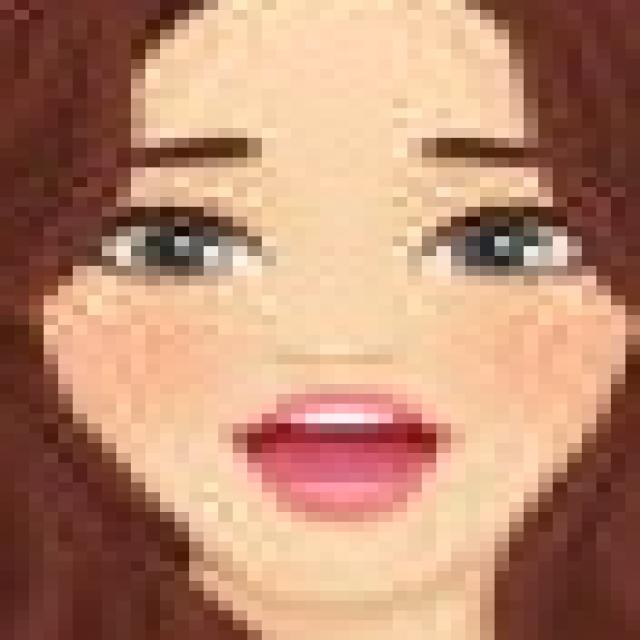Anxiety: (39, 0, 625, 612)
